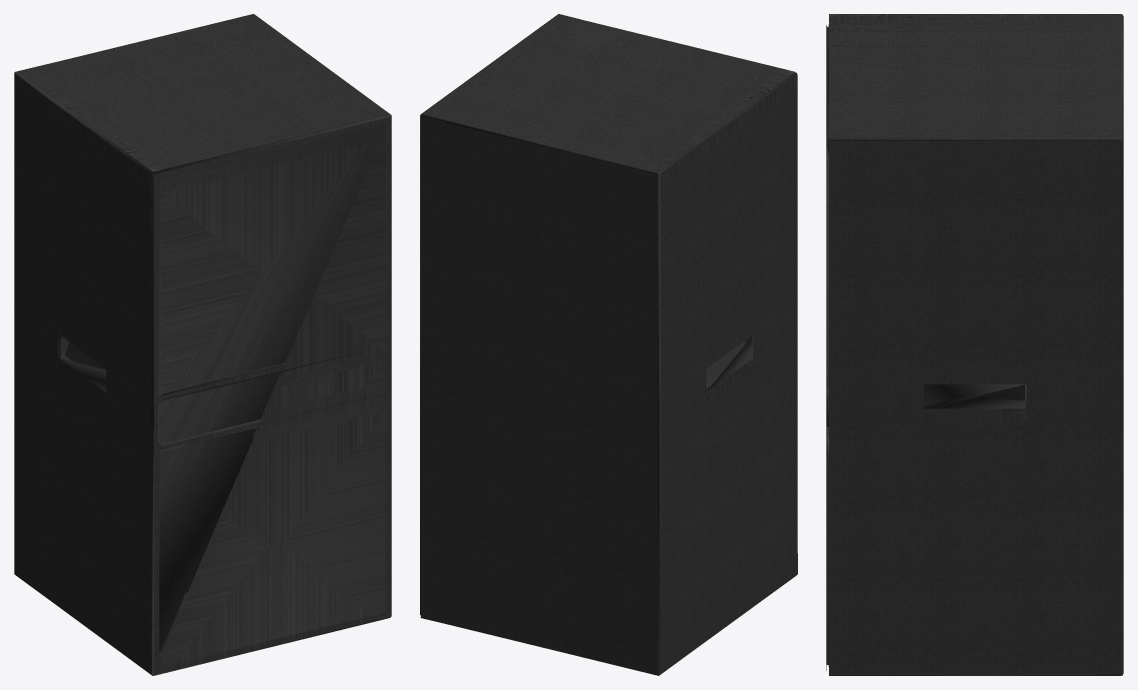
File: Tumbina2PanksLiela.fbx
3 views of the same model, side by side, from view 1: azimuth 30°, elevation 25°; view 2: azimuth 150°, elevation 25°; view 3: azimuth 270°, elevation 25° (orthographic). The views are drawn at different scales.
Parts seen in each view (by area): view 1: Speakers; view 2: Speakers; view 3: Speakers.
Part boxes in pixels (x1,y1,x2,y2): Speakers: (14, 14, 391, 675); Speakers: (420, 14, 797, 675); Speakers: (826, 14, 1123, 675).
Bounding box in the file's own units: 0.6 × 1.2 × 0.6.
